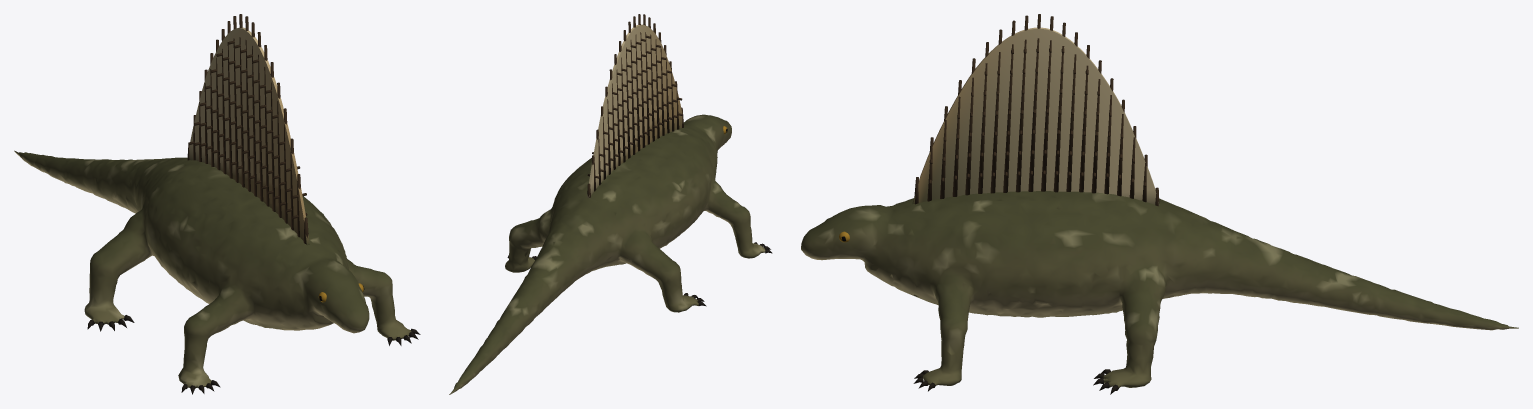
File: Edaphosaurus.fbx
3 views of the same model, side by side, from view 1: azimuth 30°, elevation 25°; view 2: azimuth 150°, elevation 25°; view 3: azimuth 270°, elevation 25° (orthographic). The views are drawn at different scales.
Parts seen in each view (by area): view 1: Edaphosaurus; view 2: Edaphosaurus; view 3: Edaphosaurus.
Part boxes in pixels (x1,y1,x2,y2): Edaphosaurus: [14, 14, 420, 394]; Edaphosaurus: [449, 14, 772, 394]; Edaphosaurus: [801, 14, 1518, 394].
Bounding box in the file's own units: 0.794 × 0.9396 × 1.91.
